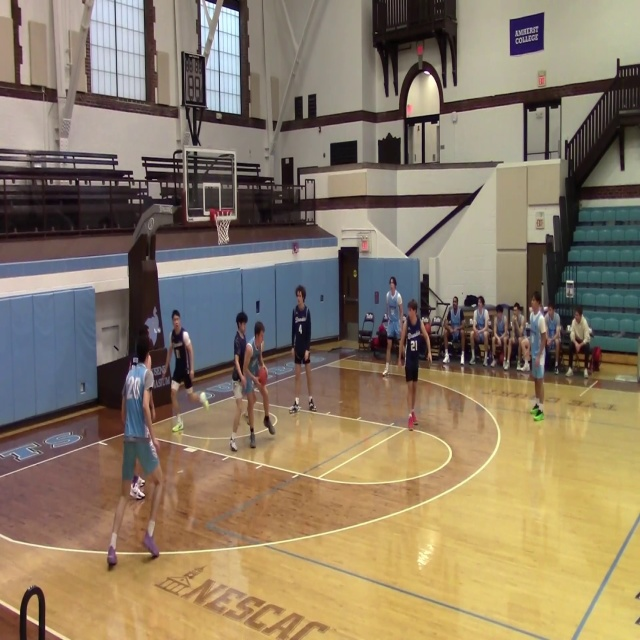Basketball: (199, 391, 213, 404), (258, 366, 267, 386), (199, 391, 208, 403), (520, 337, 529, 349)
